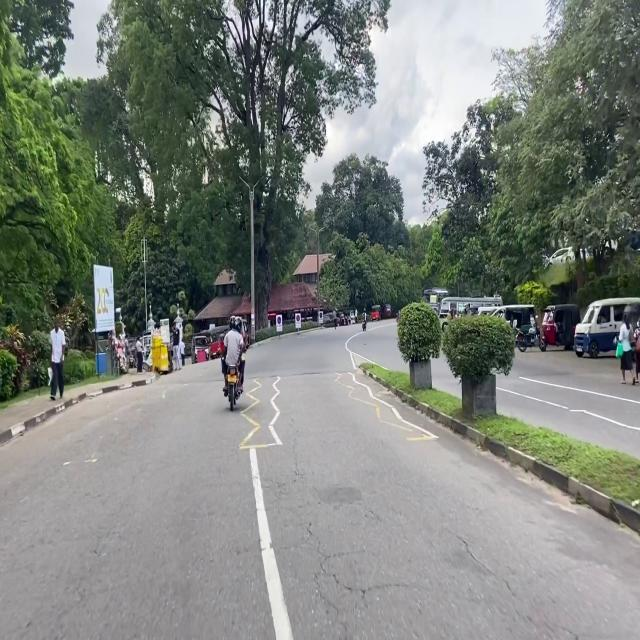bus: (439, 295, 502, 329), (423, 287, 450, 314)
car: (324, 313, 340, 328)
motorcycle: (516, 315, 540, 352), (227, 366, 242, 411), (362, 321, 366, 331)
person: (222, 316, 245, 392), (50, 317, 65, 401), (619, 313, 635, 385), (631, 318, 640, 382), (173, 324, 181, 370), (124, 333, 134, 369), (136, 338, 143, 372), (179, 339, 185, 366), (333, 310, 337, 328), (354, 308, 358, 323), (363, 308, 366, 322)
three wheeler: (540, 304, 580, 351), (499, 305, 535, 329), (210, 326, 228, 359), (624, 303, 640, 331), (344, 310, 356, 324), (371, 305, 381, 321), (382, 304, 391, 318), (339, 312, 345, 326)
van: (574, 299, 640, 358), (478, 306, 497, 315)
